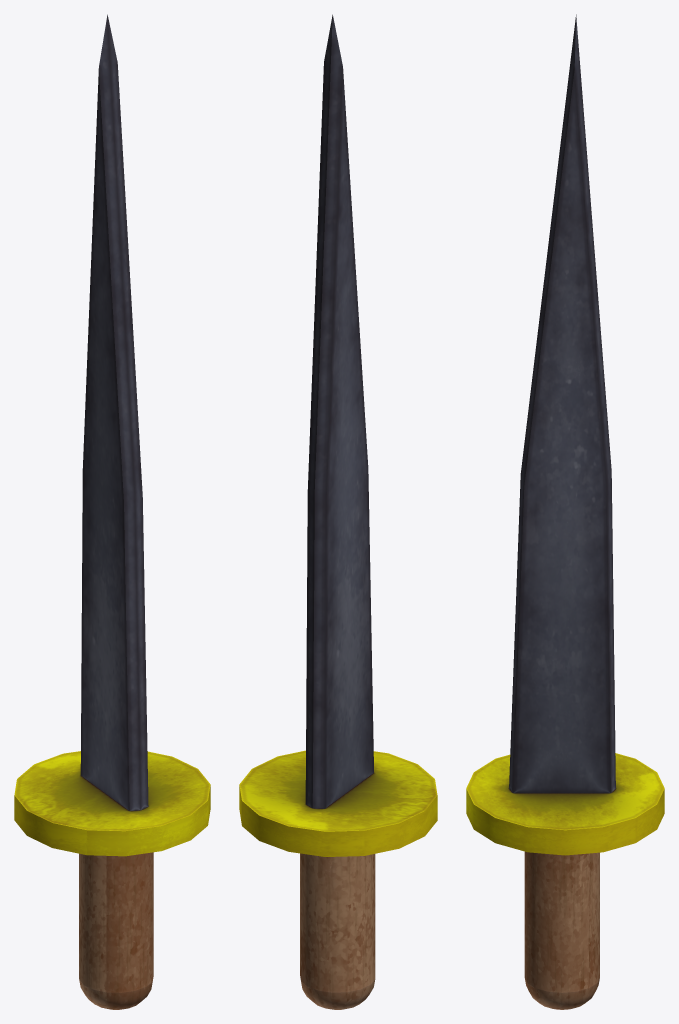
Rendered from Sword_03.fbx.
3 views of the same model, side by side, from view 1: azimuth 30°, elevation 25°; view 2: azimuth 150°, elevation 25°; view 3: azimuth 270°, elevation 25° (orthographic).
Visible parts, largest first — view 1: Sword_03; view 2: Sword_03; view 3: Sword_03.
Boxes of the visible parts, left/top/right/bottom form: Sword_03: left=14, top=14, right=210, bottom=1009; Sword_03: left=239, top=14, right=437, bottom=1009; Sword_03: left=466, top=14, right=664, bottom=1009.
Bounding box in the file's own units: 11.88 × 65.36 × 11.88.
Materials: 3 (3 with a texture image).
